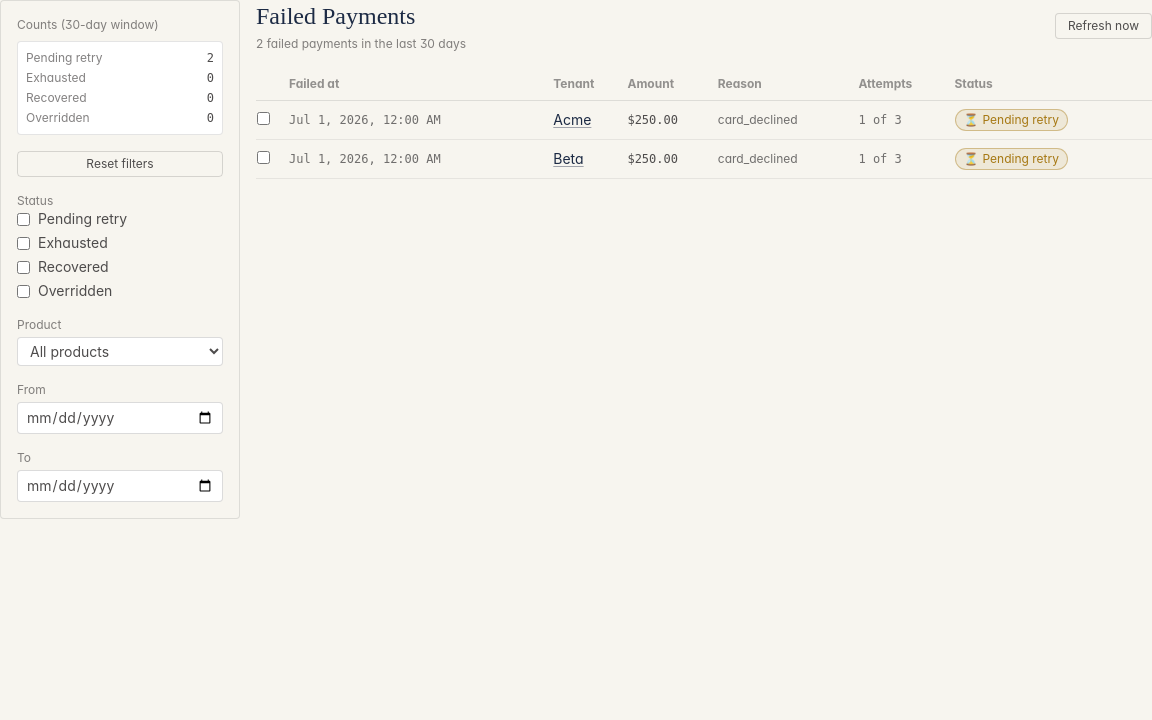
Test: FailedPaymentsBulkEmailBar (HUB-1692) › Send opens the recipient preview modal listing selected rows
Click the checkbox named "Select Acme". click: click(264, 118)
box: [257,112,270,125]
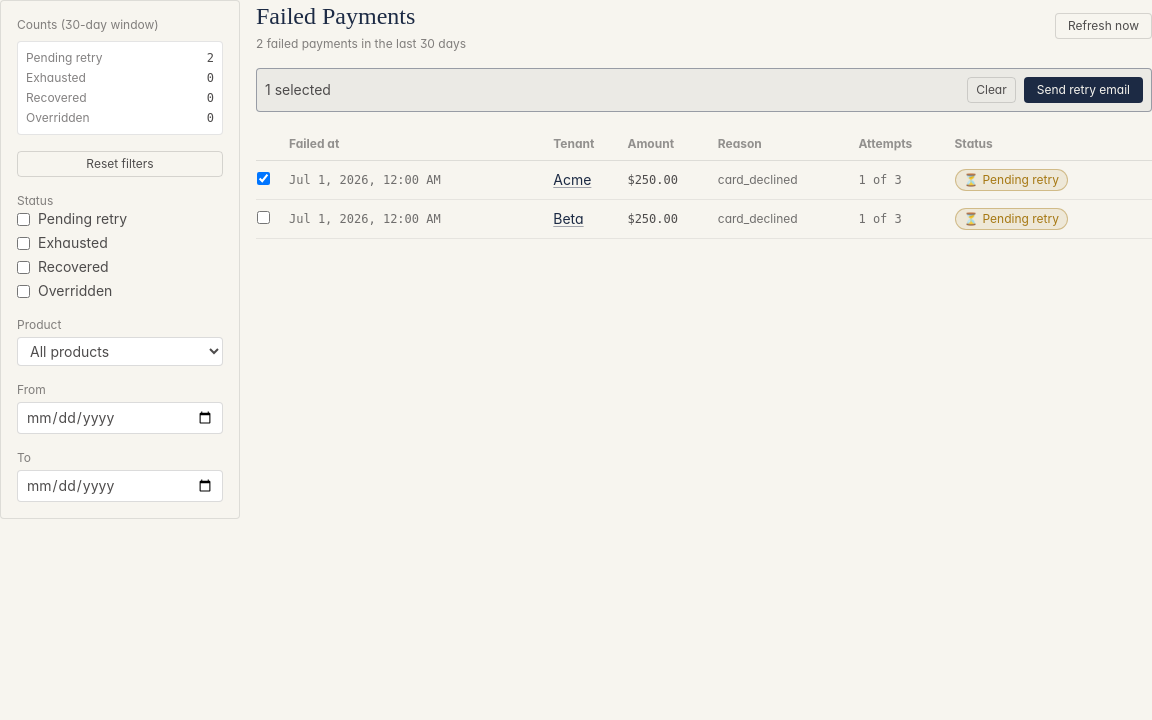
Click the checkbox named "Select Beta". click: click(264, 218)
box: [257,211,270,224]
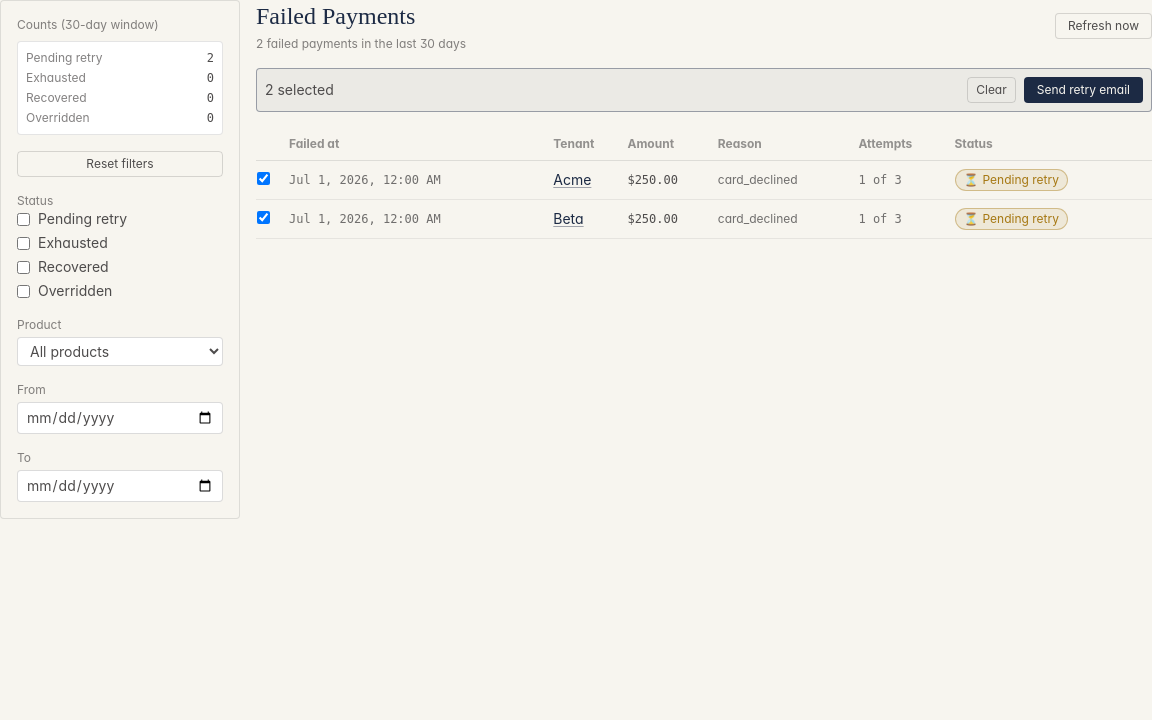
Click the button with test id "failed-payments-bulk-send". click: click(1083, 90)
box: [1024,77,1143,103]
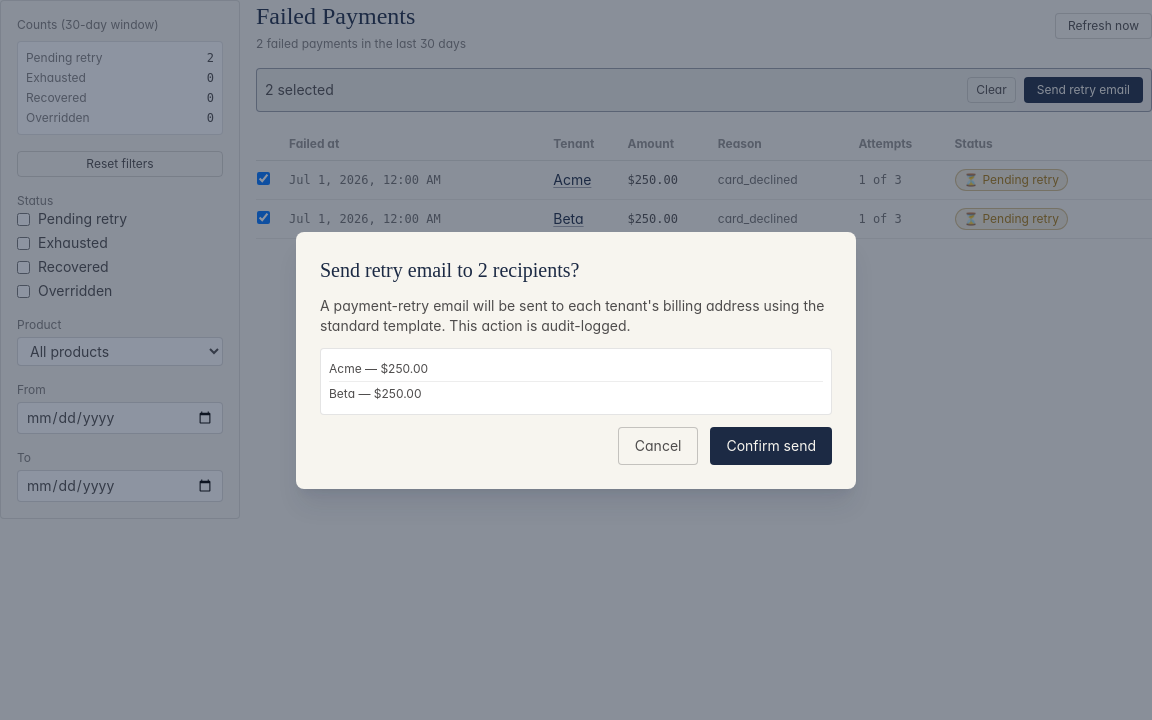
Now the dialog with test id "failed-payments-bulk-preview" is shown
